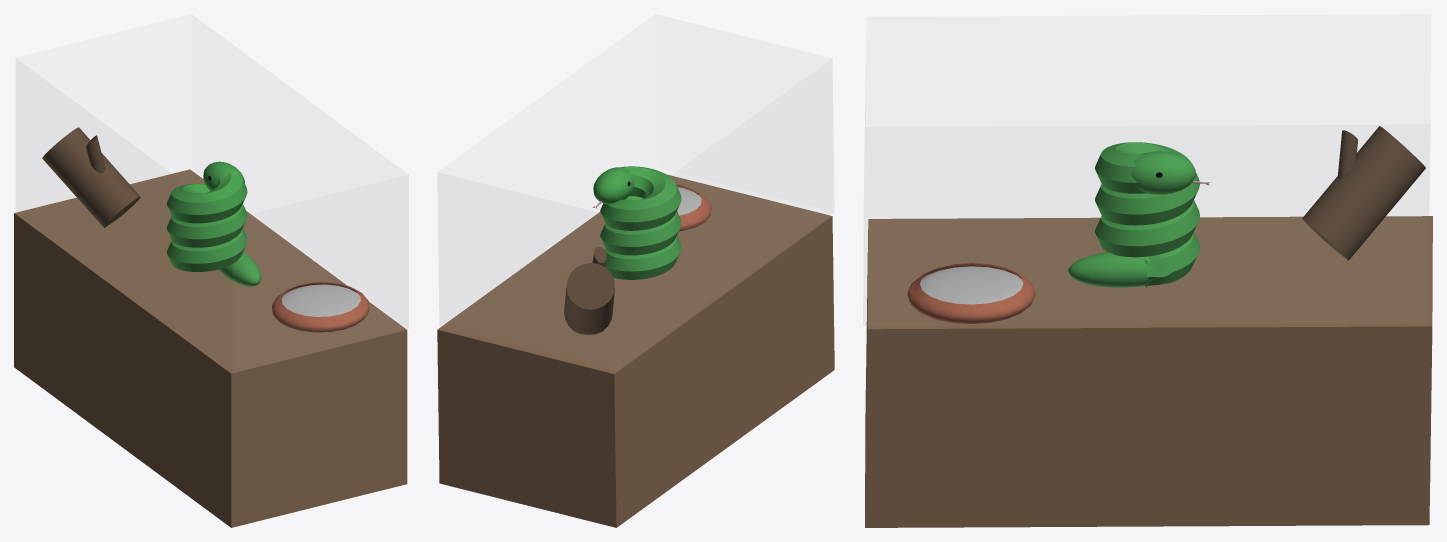
File: snake.fbx
3 views of the same model, side by side, from view 1: azimuth 30°, elevation 25°; view 2: azimuth 150°, elevation 25°; view 3: azimuth 270°, elevation 25° (orthographic). The views are drawn at different scales.
Visible parts, largest first — view 1: pCube2, pSphere4, pCylinder3, pSphere11, pSphere10, pSphere9; view 2: pCube2, pSphere4, pCylinder3, pSphere10, pSphere11; view 3: pCube2, pSphere4, pCylinder3, pSphere10, pSphere11, pSphere9.
Boxes of the visible parts, left/top/right/bottom form: pCube2: left=14, top=169, right=407, bottom=527; pSphere4: left=166, top=161, right=247, bottom=271; pCylinder3: left=42, top=127, right=140, bottom=227; pSphere11: left=281, top=284, right=360, bottom=316; pSphere10: left=272, top=282, right=369, bottom=332; pSphere9: left=219, top=251, right=261, bottom=286; pCube2: left=437, top=174, right=834, bottom=527; pSphere4: left=593, top=166, right=681, bottom=279; pCylinder3: left=564, top=246, right=614, bottom=334; pSphere10: left=676, top=184, right=711, bottom=231; pSphere11: left=677, top=187, right=701, bottom=215; pCube2: left=865, top=216, right=1432, bottom=527; pSphere4: left=1095, top=142, right=1199, bottom=287; pCylinder3: left=1302, top=126, right=1425, bottom=260; pSphere10: left=907, top=263, right=1035, bottom=323; pSphere11: left=920, top=266, right=1023, bottom=304; pSphere9: left=1068, top=252, right=1154, bottom=287.
Size of the model in its own units: 5.1 by 8.53 by 10.85.
